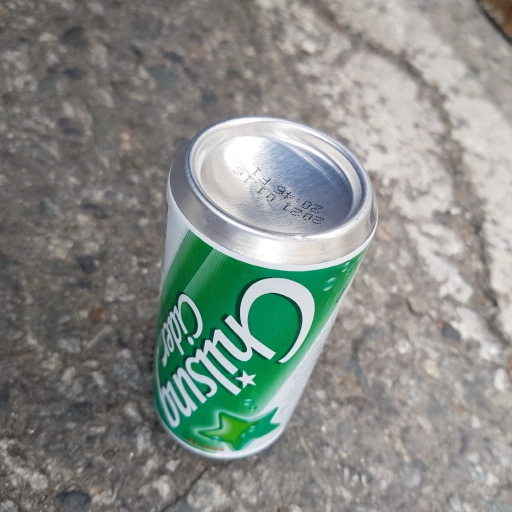Metal_0: (146, 115, 379, 465)
